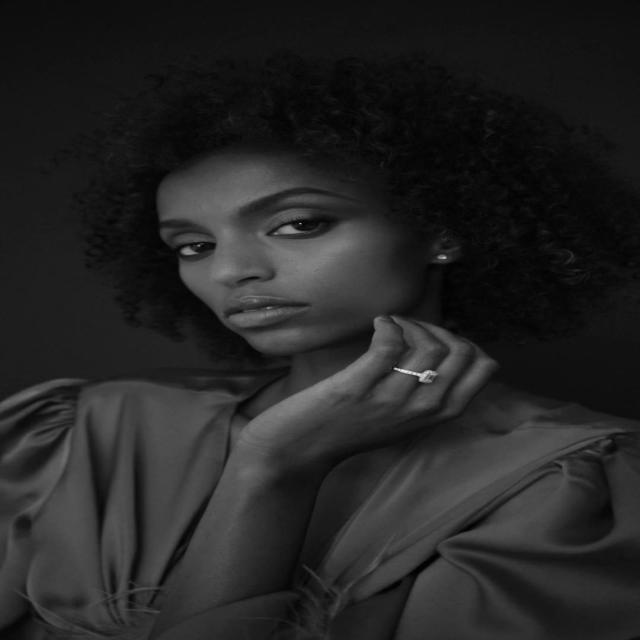Earring: (432, 243, 450, 273)
